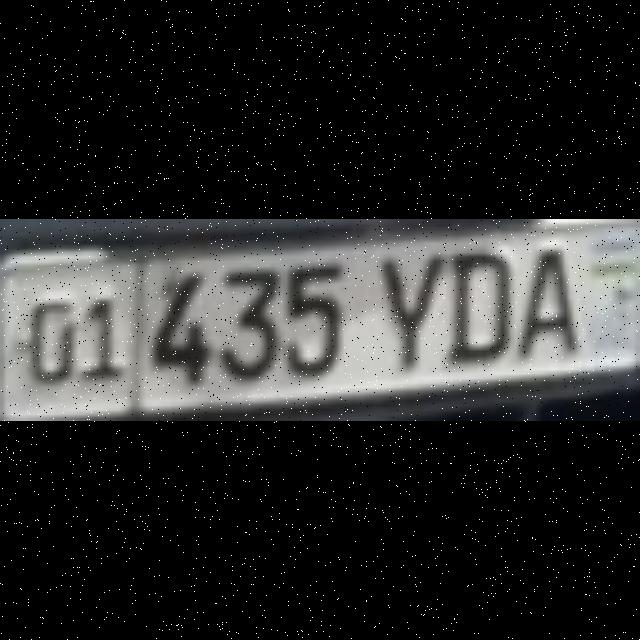0: (22, 295, 68, 381)
1: (76, 296, 122, 376)
3: (212, 264, 270, 372)
4: (149, 269, 203, 377)
5: (279, 260, 333, 372)
A: (509, 246, 577, 350)
D: (446, 245, 504, 358)
Y: (374, 250, 438, 364)
